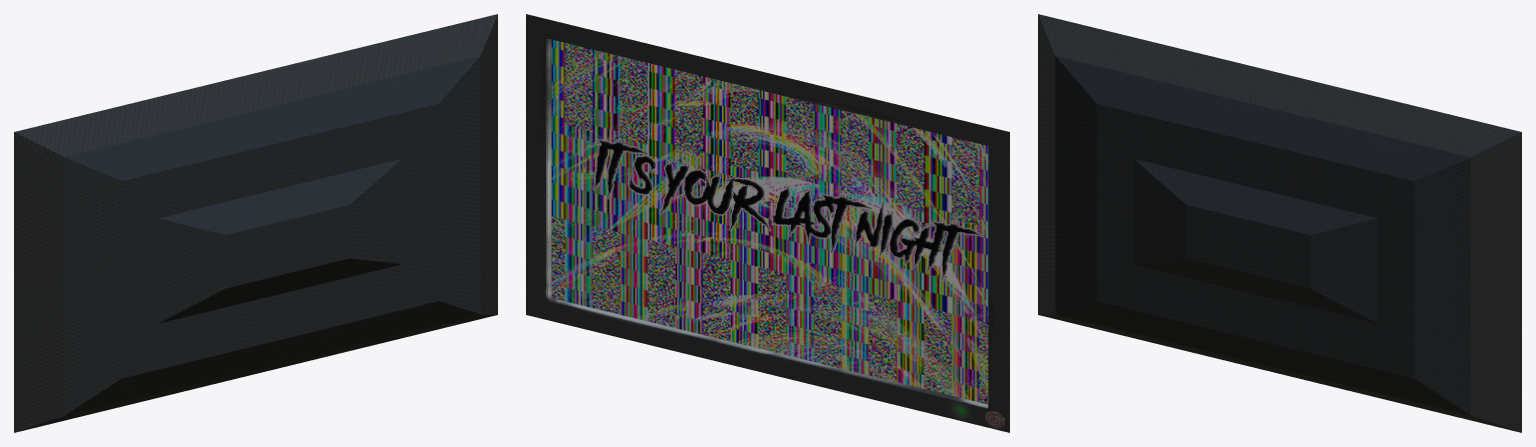
3 renders of one model, left to right at view 1: azimuth 30°, elevation 25°; view 2: azimuth 150°, elevation 25°; view 3: azimuth 330°, elevation 25°, orthographic.
Visible parts, largest first — view 1: Boîte012; view 2: Boîte012; view 3: Boîte012.
Part boxes in pixels (x1,y1,x2,y2): Boîte012: (14, 14, 497, 432); Boîte012: (526, 14, 1009, 432); Boîte012: (1038, 14, 1521, 432).
Bounding box in the file's own units: 348 × 207 × 39.56.
